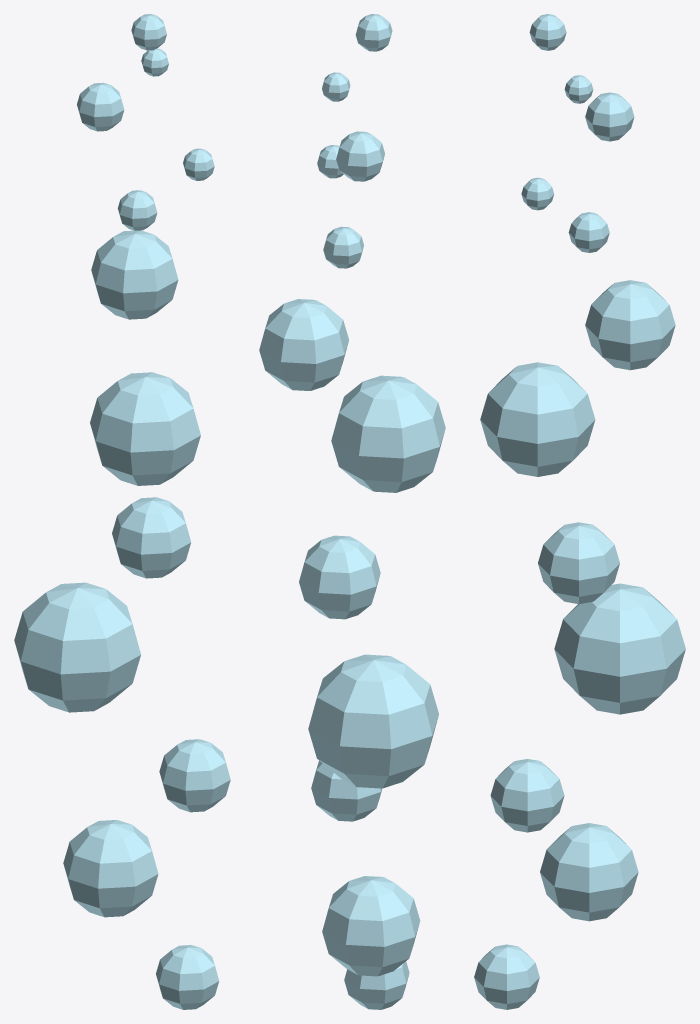
File: Bubbles2.fbx
The picture shows the model from 3 angles, left to right: view 1: azimuth 30°, elevation 25°; view 2: azimuth 150°, elevation 25°; view 3: azimuth 270°, elevation 25°; orthographic projection. The views are drawn at different scales.
Visible parts, largest first — view 1: Bubbles_BubbleMat_bubble_04, Bubbles_BubbleMat_bubble_06, Bubbles_BubbleMat_bubble_02, Bubbles_BubbleMat_bubble_07, Bubbles_BubbleMat_bubble_05, Bubbles_BubbleMat_bubble_03, Bubbles_BubbleMat_bubble_01, Bubbles_BubbleMat_bubble_10, Bubbles_BubbleMat_bubble_08, Bubbles_BubbleMat_bubble_12, Bubbles_BubbleMat_bubble_09, Bubbles_BubbleMat_bubble_11; view 2: Bubbles_BubbleMat_bubble_04, Bubbles_BubbleMat_bubble_06, Bubbles_BubbleMat_bubble_02, Bubbles_BubbleMat_bubble_07, Bubbles_BubbleMat_bubble_05, Bubbles_BubbleMat_bubble_03, Bubbles_BubbleMat_bubble_01, Bubbles_BubbleMat_bubble_10, Bubbles_BubbleMat_bubble_08, Bubbles_BubbleMat_bubble_12, Bubbles_BubbleMat_bubble_11, Bubbles_BubbleMat_bubble_09; view 3: Bubbles_BubbleMat_bubble_04, Bubbles_BubbleMat_bubble_06, Bubbles_BubbleMat_bubble_02, Bubbles_BubbleMat_bubble_07, Bubbles_BubbleMat_bubble_05, Bubbles_BubbleMat_bubble_03, Bubbles_BubbleMat_bubble_01, Bubbles_BubbleMat_bubble_10, Bubbles_BubbleMat_bubble_08, Bubbles_BubbleMat_bubble_12, Bubbles_BubbleMat_bubble_09, Bubbles_BubbleMat_bubble_11.
Part boxes in pixels (bbox=[...]): Bubbles_BubbleMat_bubble_04: bbox=[14, 582, 140, 712]; Bubbles_BubbleMat_bubble_06: bbox=[90, 372, 200, 485]; Bubbles_BubbleMat_bubble_02: bbox=[63, 820, 158, 917]; Bubbles_BubbleMat_bubble_07: bbox=[91, 230, 178, 319]; Bubbles_BubbleMat_bubble_05: bbox=[112, 497, 191, 578]; Bubbles_BubbleMat_bubble_03: bbox=[159, 739, 230, 812]; Bubbles_BubbleMat_bubble_01: bbox=[156, 945, 219, 1009]; Bubbles_BubbleMat_bubble_10: bbox=[77, 82, 124, 131]; Bubbles_BubbleMat_bubble_08: bbox=[117, 190, 157, 230]; Bubbles_BubbleMat_bubble_12: bbox=[131, 14, 166, 50]; Bubbles_BubbleMat_bubble_09: bbox=[183, 148, 214, 180]; Bubbles_BubbleMat_bubble_11: bbox=[141, 48, 168, 76]; Bubbles_BubbleMat_bubble_04: bbox=[308, 654, 438, 788]; Bubbles_BubbleMat_bubble_06: bbox=[331, 375, 445, 492]; Bubbles_BubbleMat_bubble_02: bbox=[322, 876, 420, 976]; Bubbles_BubbleMat_bubble_07: bbox=[259, 299, 348, 390]; Bubbles_BubbleMat_bubble_05: bbox=[299, 535, 380, 619]; Bubbles_BubbleMat_bubble_03: bbox=[311, 760, 381, 821]; Bubbles_BubbleMat_bubble_01: bbox=[344, 961, 409, 1009]; Bubbles_BubbleMat_bubble_10: bbox=[336, 131, 384, 181]; Bubbles_BubbleMat_bubble_08: bbox=[323, 226, 363, 268]; Bubbles_BubbleMat_bubble_12: bbox=[355, 14, 392, 51]; Bubbles_BubbleMat_bubble_11: bbox=[322, 72, 350, 101]; Bubbles_BubbleMat_bubble_09: bbox=[317, 145, 343, 178]; Bubbles_BubbleMat_bubble_04: bbox=[554, 583, 685, 714]; Bubbles_BubbleMat_bubble_06: bbox=[480, 362, 595, 476]; Bubbles_BubbleMat_bubble_02: bbox=[540, 823, 638, 921]; Bubbles_BubbleMat_bubble_07: bbox=[585, 280, 675, 370]; Bubbles_BubbleMat_bubble_05: bbox=[538, 522, 619, 603]; Bubbles_BubbleMat_bubble_03: bbox=[490, 759, 564, 832]; Bubbles_BubbleMat_bubble_01: bbox=[474, 944, 539, 1009]; Bubbles_BubbleMat_bubble_10: bbox=[585, 92, 634, 141]; Bubbles_BubbleMat_bubble_08: bbox=[568, 212, 609, 252]; Bubbles_BubbleMat_bubble_12: bbox=[529, 14, 566, 50]; Bubbles_BubbleMat_bubble_09: bbox=[521, 177, 553, 210]; Bubbles_BubbleMat_bubble_11: bbox=[564, 75, 593, 103].
Size of the model in its own units: 90 by 527 by 103.
